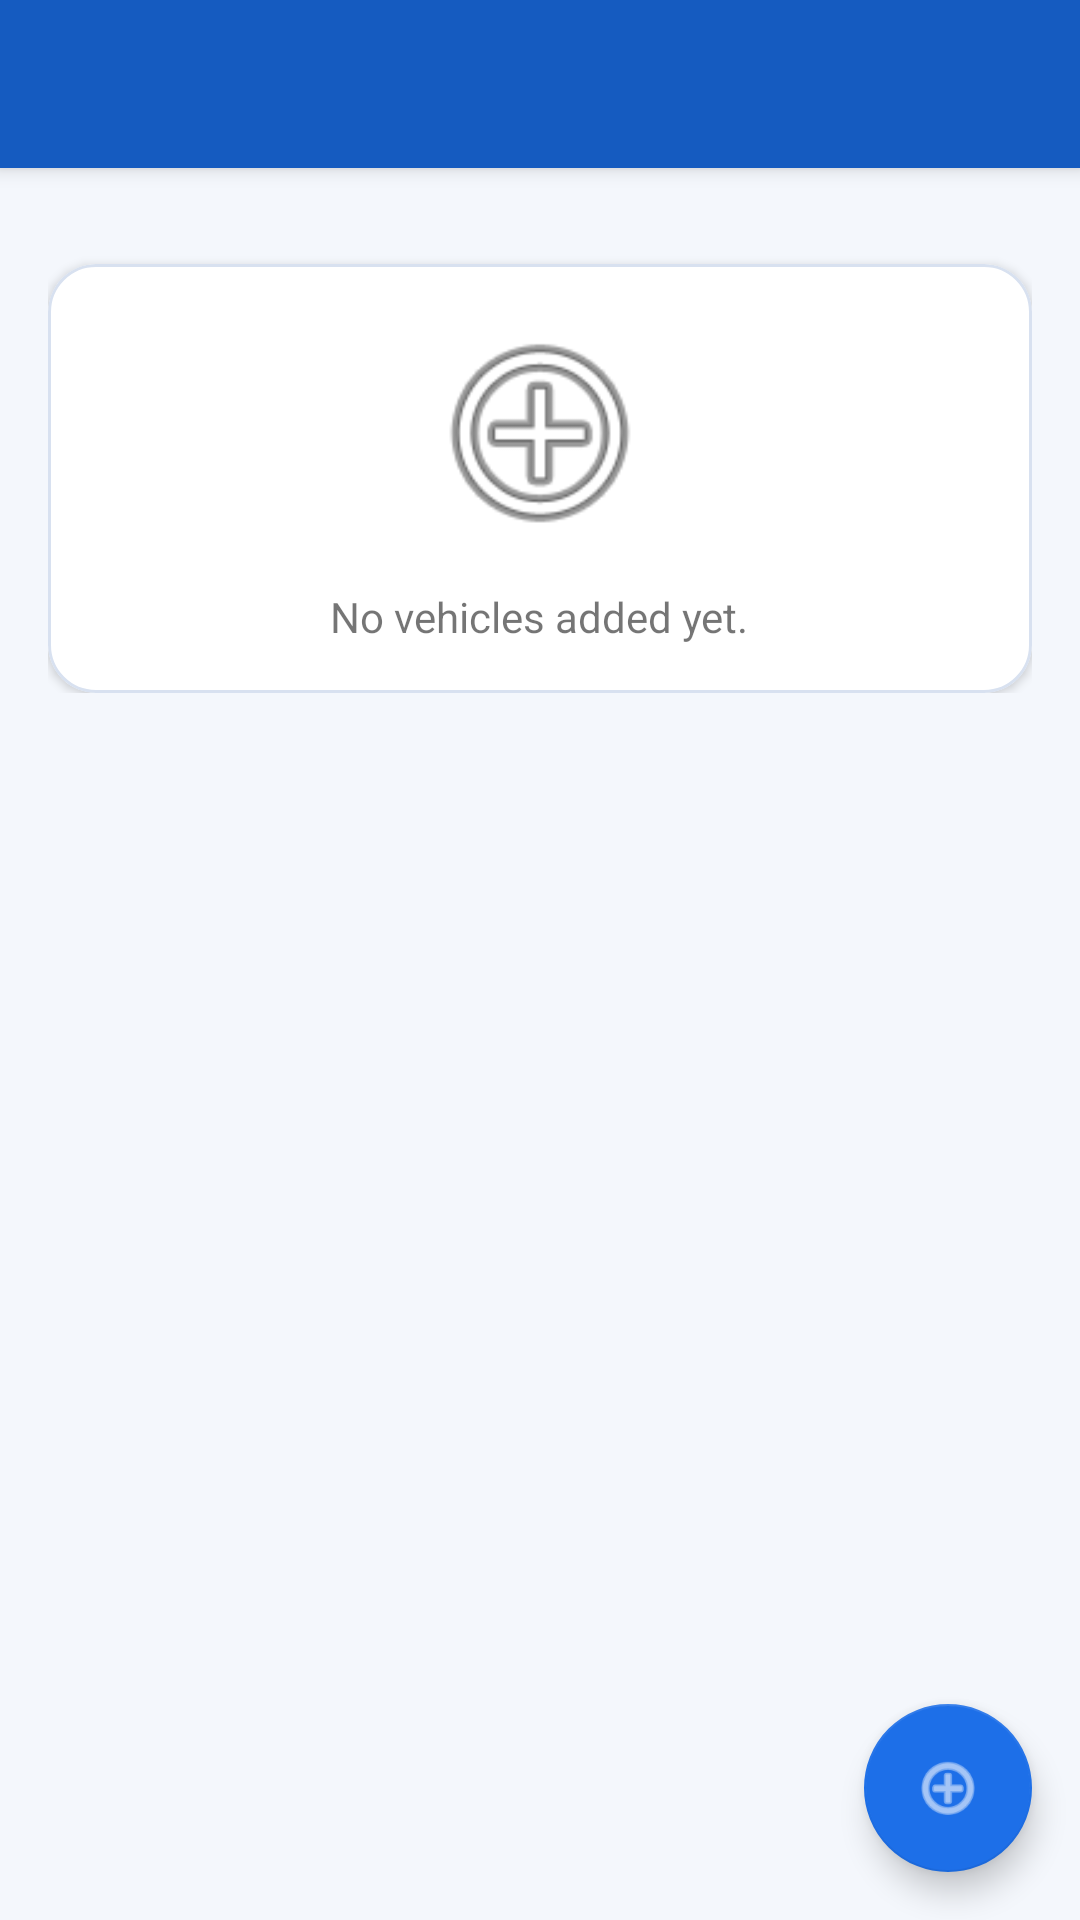

Icon click points for this 1080 × 1920 phone screenshot, format point (x, y):
Add Vehicle: point (540, 433), point (948, 1788)
